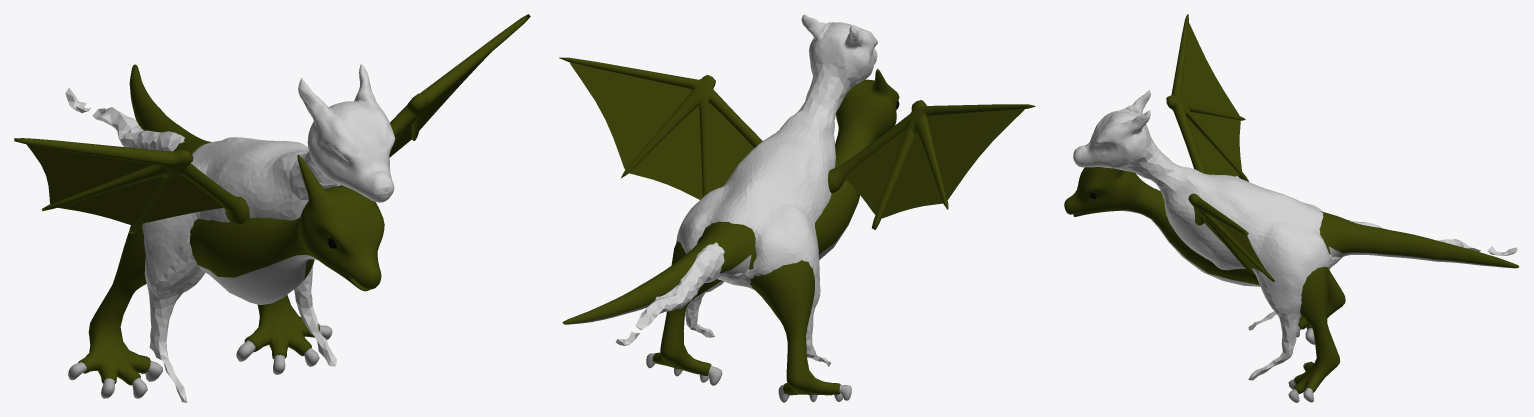
The model's file is miniDragon.obj.
The picture shows the model from 3 angles, left to right: view 1: azimuth 30°, elevation 25°; view 2: azimuth 150°, elevation 25°; view 3: azimuth 270°, elevation 25°; orthographic projection. The views are drawn at different scales.
Visible parts, largest first — view 1: Plane, Sphere_Sphere.002; view 2: Plane, Sphere_Sphere.002; view 3: Plane, Sphere_Sphere.002.
Boxes of the visible parts, x1,y1,x2,y2 form: Plane: [14, 14, 530, 398]; Sphere_Sphere.002: [65, 63, 395, 402]; Plane: [559, 57, 1035, 402]; Sphere_Sphere.002: [615, 14, 877, 366]; Plane: [1064, 14, 1519, 402]; Sphere_Sphere.002: [1073, 90, 1517, 380].
Bounding box in the file's own units: 14.51 × 9.76 × 14.69.
